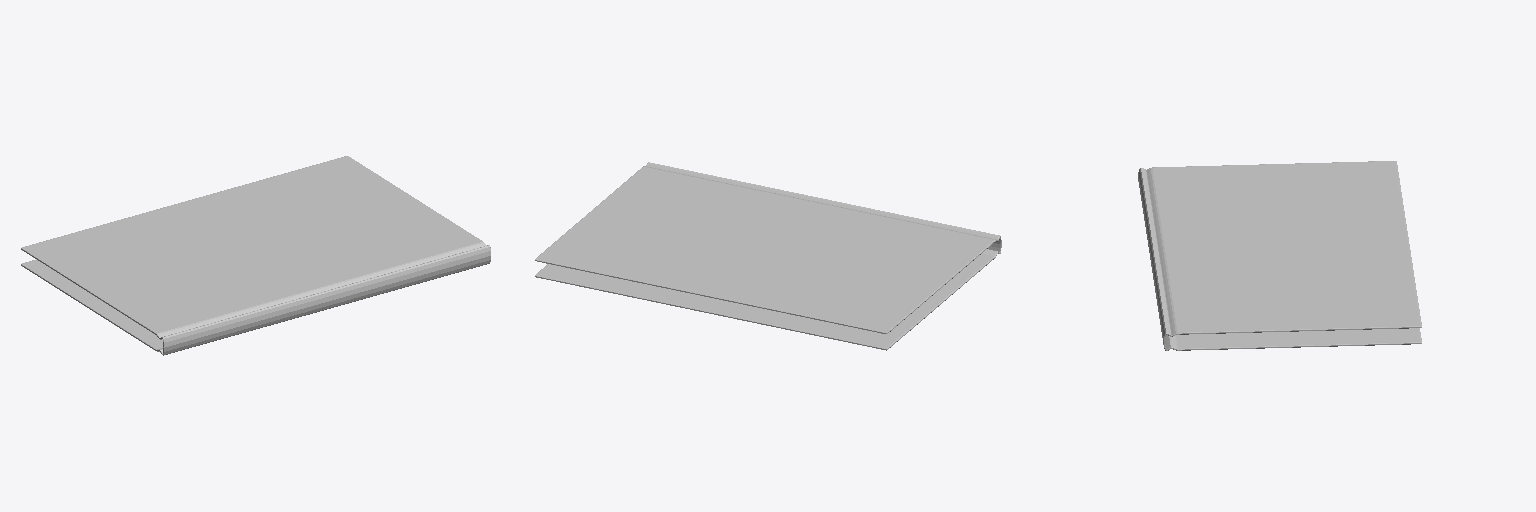
The model's file is book-one-cover.obj.
3 views of the same model, side by side, from view 1: azimuth 30°, elevation 25°; view 2: azimuth 150°, elevation 25°; view 3: azimuth 270°, elevation 25° (orthographic).
Visible parts, largest first — view 1: books_and_mugs:Line003; view 2: books_and_mugs:Line003; view 3: books_and_mugs:Line003.
Part boxes in pixels (left/top/right/bottom): books_and_mugs:Line003: left=21, top=156, right=490, bottom=355; books_and_mugs:Line003: left=535, top=162, right=1001, bottom=350; books_and_mugs:Line003: left=1138, top=161, right=1421, bottom=350.
Size of the model in its own units: 1.02 by 0.0504 by 0.7051.